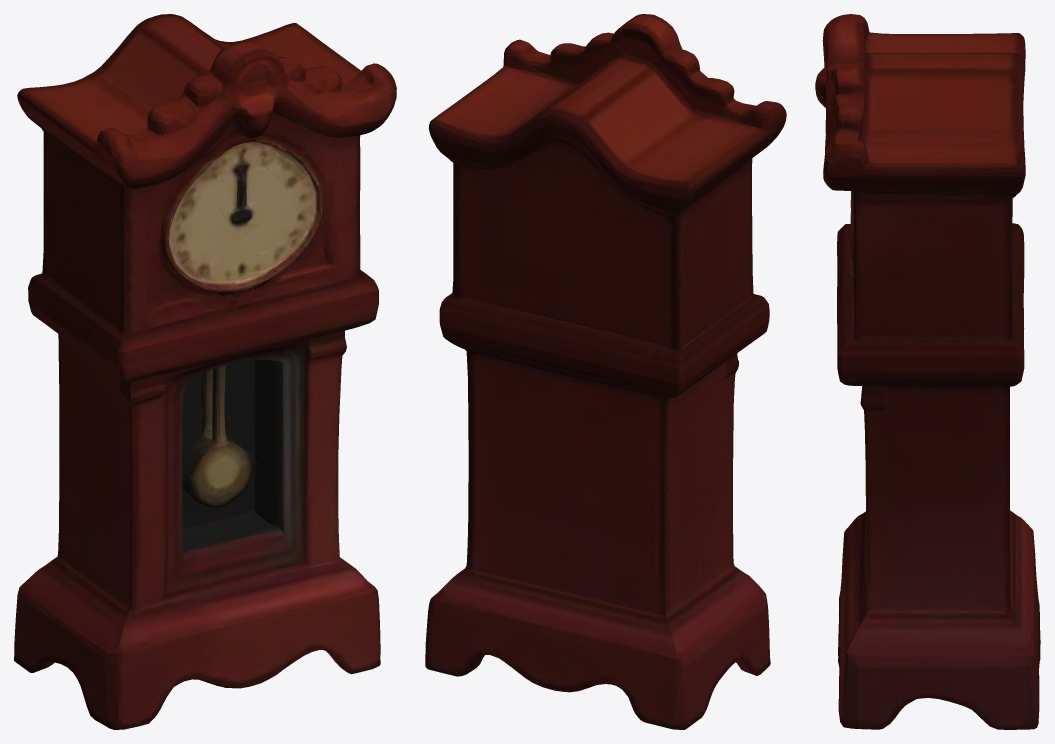
The model's file is grandfather_clock.glb.
The picture shows the model from 3 angles, left to right: view 1: azimuth 30°, elevation 25°; view 2: azimuth 150°, elevation 25°; view 3: azimuth 270°, elevation 25°; orthographic projection. The views are drawn at different scales.
Parts seen in each view (by area): view 1: world; view 2: world; view 3: world.
Part boxes in pixels (box(x1,y1,x2,y2)): world: box(14, 14, 396, 729); world: box(425, 14, 786, 729); world: box(815, 14, 1040, 729).
Bounding box in the file's own units: 0.4596 × 1 × 0.3196.
Materials: 1 (1 with a texture image).
